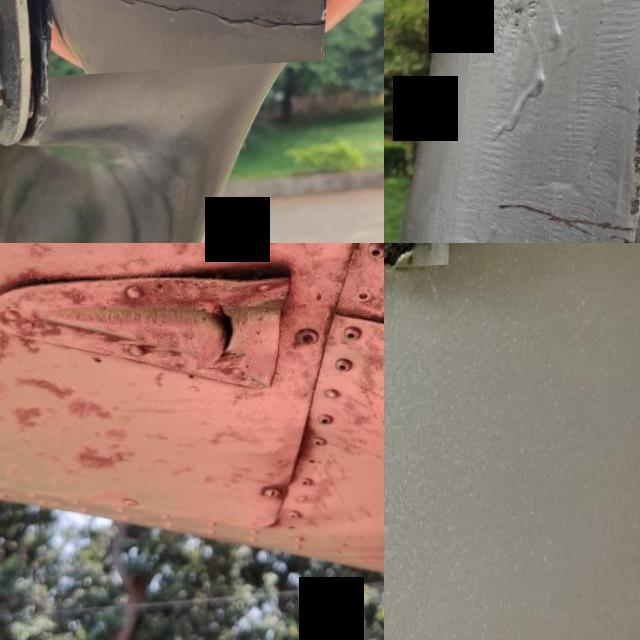Crack: (51, 0, 330, 79), (200, 290, 252, 373), (384, 243, 439, 272)
